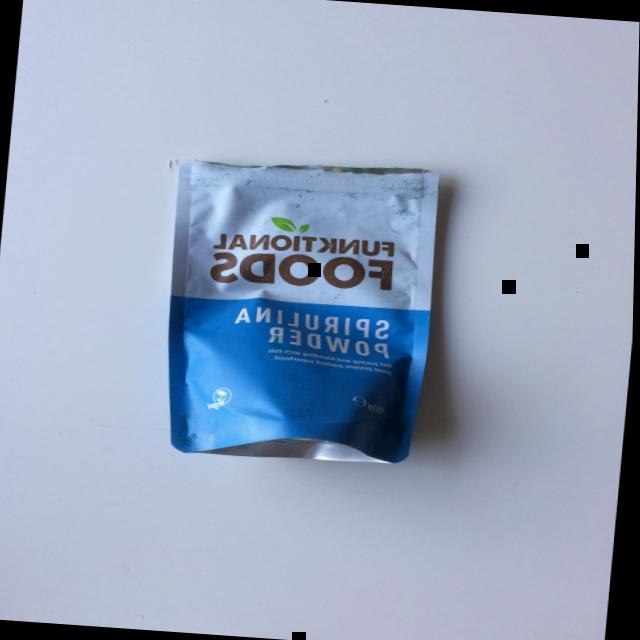Other plastic: (168, 159, 439, 464)
